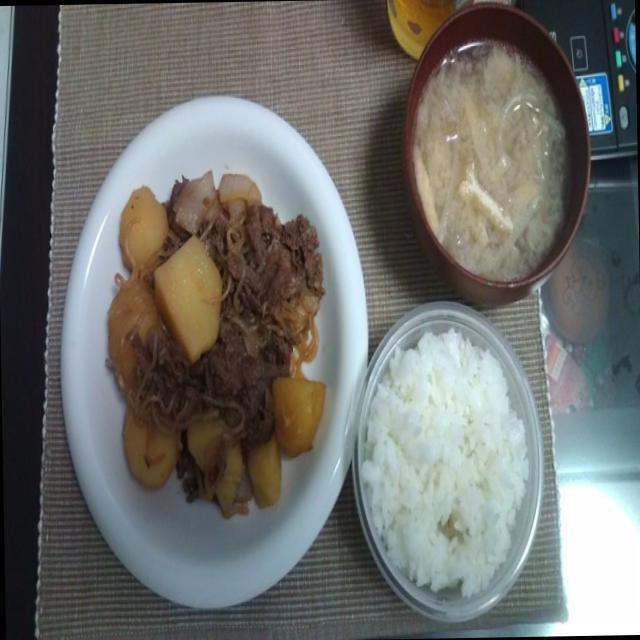Rice: (365, 320, 534, 600)
